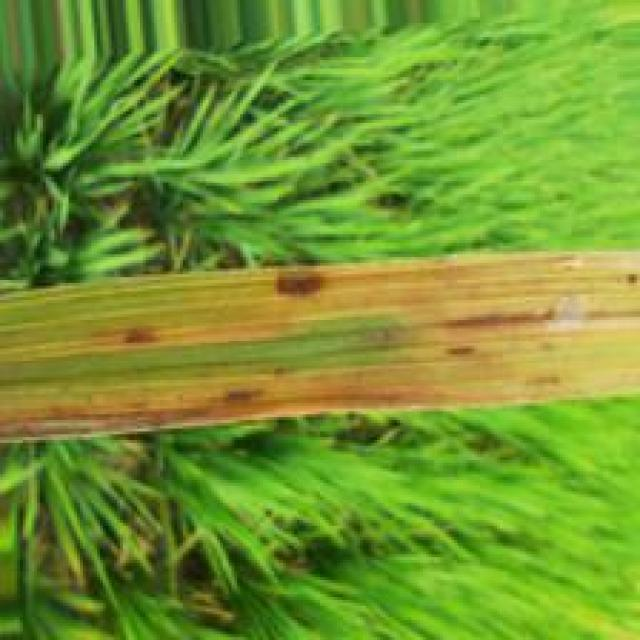Leaf_Blast: (0, 380, 589, 443), (422, 292, 601, 338), (261, 267, 337, 302)
